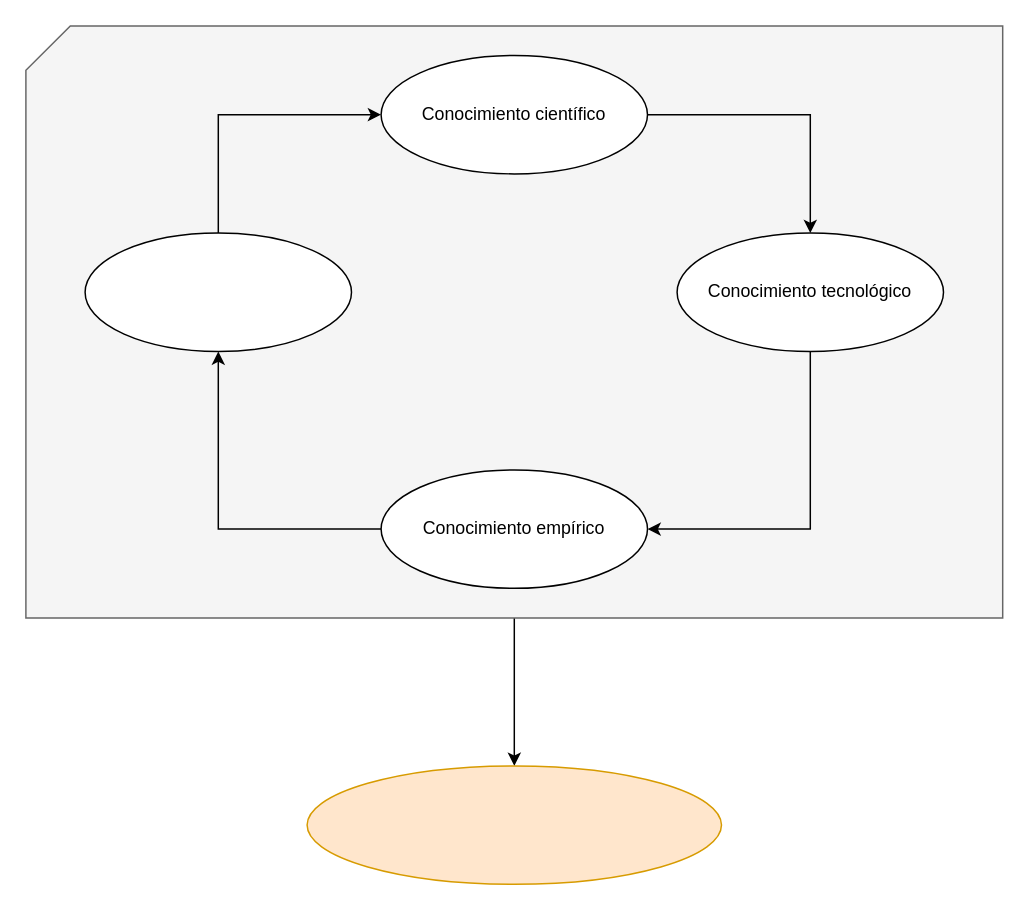
The diagram is 1029 pixels wide and 910 high, and some of its shapes have lost their labels. Here are the shapes that lost their labels. From the top down, the box of each, then its label:
(84, 232, 352, 352): Conocimiento técnico
(306, 764, 722, 884): Nuevas tecnologías
